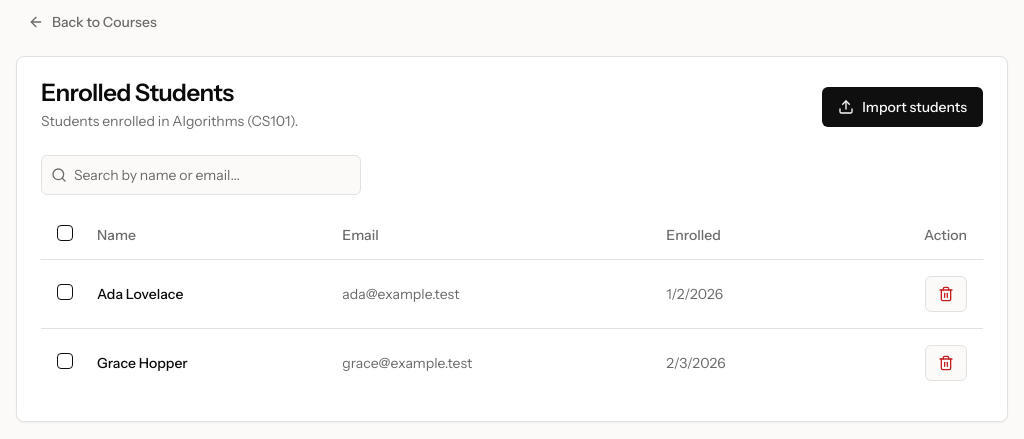
Test: CourseStudents › merges enrollment/profile data and filters the visible roster
The image size is (1024, 439).
expect the text "Ada Lovelace" is shown: met, box [81,259,326,328]
expect the text "Grace Hopper" is shown: met, box [81,328,326,396]
Step 1. Type "ada@" into the field with placeholder "Search by name or email..." → (201, 175), box [41,155,361,195]
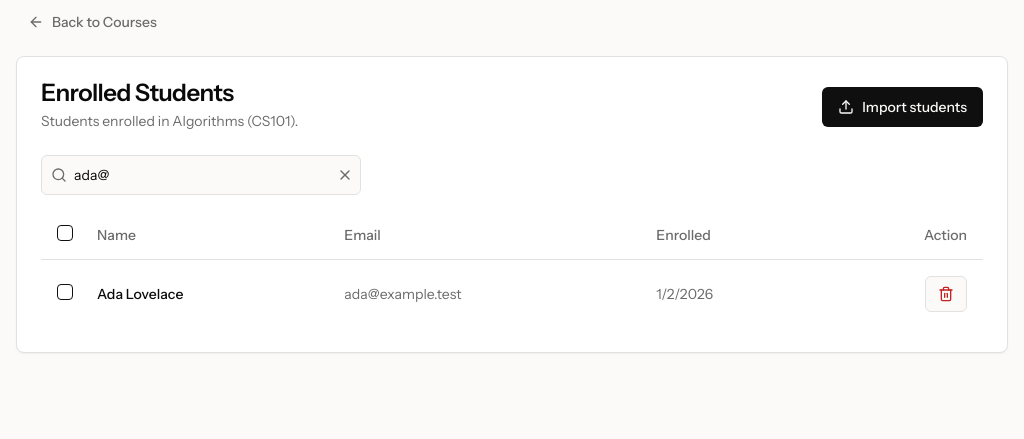
expect the text "Ada Lovelace" is shown: met, box [81,259,328,328]
expect the text "Grace Hopper" is gone: met
Step 2. Click the button named "Clear search" → (345, 175), box [337,167,353,183]
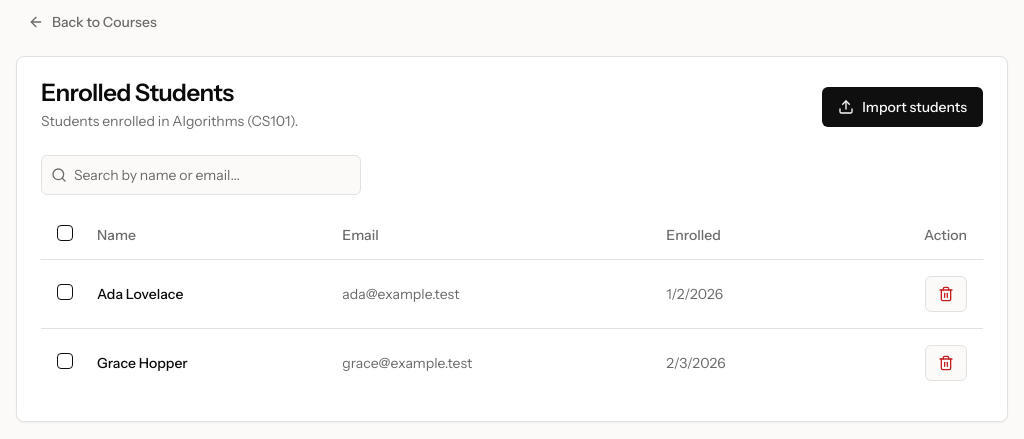
expect the text "Grace Hopper" is shown: met, box [81,328,326,396]
